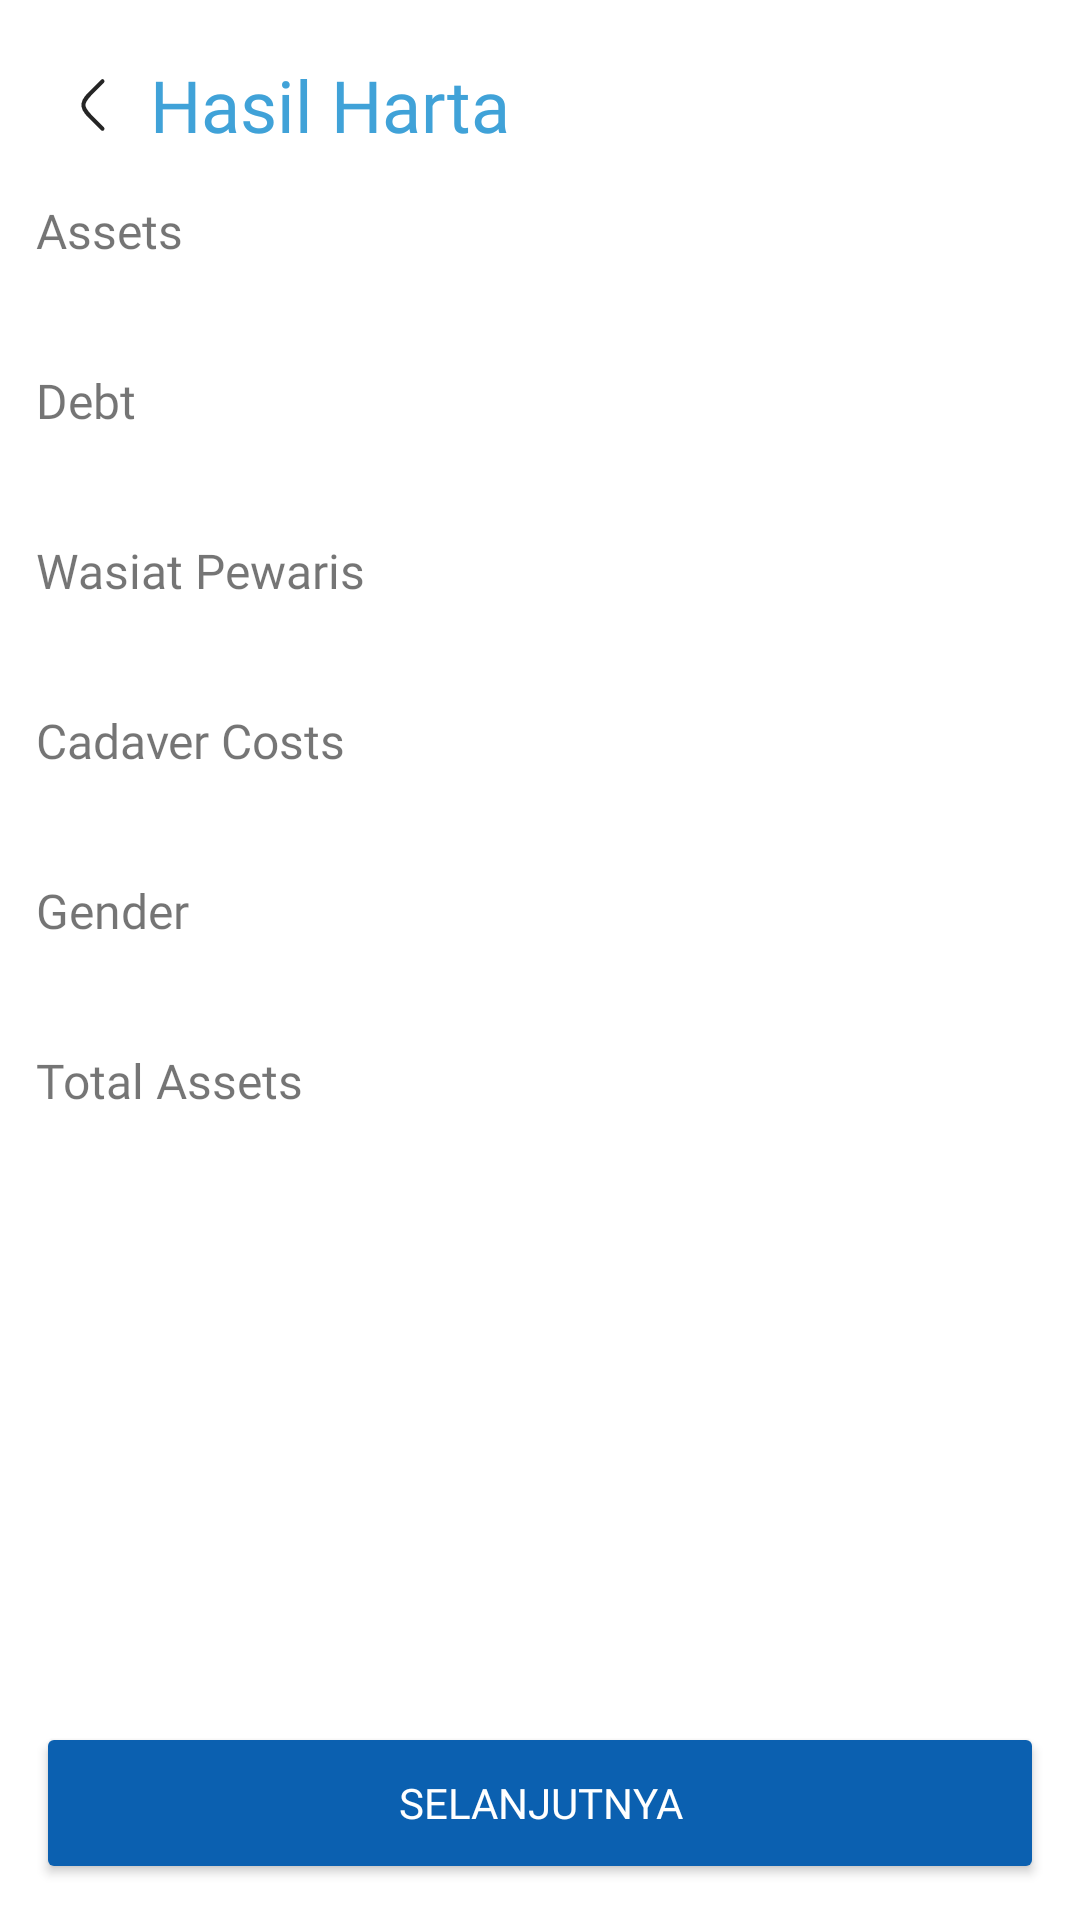

Where icons sit on this 1080px×1920px app screen, as rect(x1, y1, x2, y2):
left: rect(81, 79, 105, 131)
